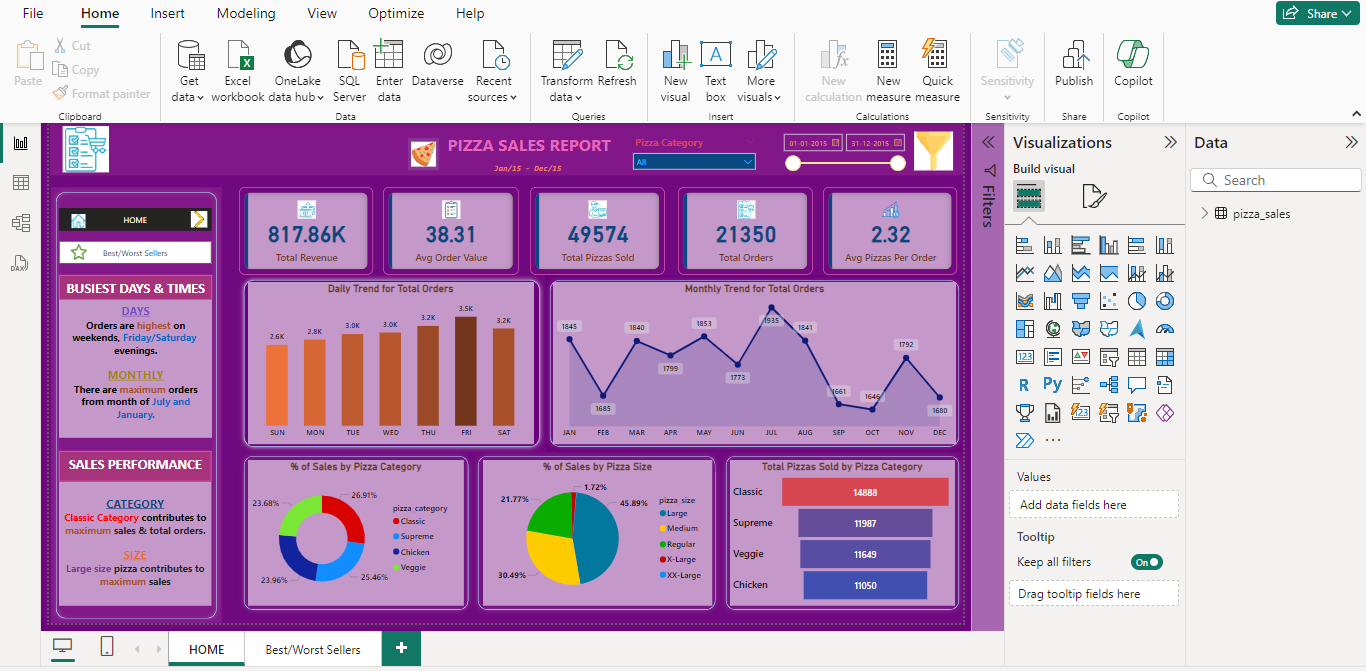

This screenshot's page, from the dashboard's own definition file:
{"tool":"powerbi","page":{"name":"HOME","canvas":[1500,820],"ordinal":0},"visuals":[{"type":"shape","box":[1.4,0,1498.6,85.7],"z":0},{"type":"cardVisual","fields":{"Data":["pizza_sales.Total Revenue"]},"box":[311.4,104.3,220,144.3],"z":1000},{"type":"cardVisual","fields":{"Data":["pizza_sales.Avg Order Value"]},"box":[548.6,104.3,222.9,144.3],"z":2000},{"type":"cardVisual","fields":{"Data":["pizza_sales.Total Pizzas Sold"]},"box":[788.6,104.3,221.4,144.3],"z":3000},{"type":"cardVisual","fields":{"Data":["pizza_sales.Total Orders"]},"box":[1031.4,104.3,221.4,144.3],"z":4000},{"type":"cardVisual","fields":{"Data":["pizza_sales.Avg Pizzas Per Order"]},"box":[1268.6,104.3,220,144.3],"z":5000},{"type":"textbox","box":[640,11.4,295.7,47.1],"z":6000},{"type":"textbox","box":[708.6,58.6,152.9,28.6],"z":7000},{"type":"image","box":[588.6,24.3,51.4,52.9],"z":8000},{"type":"shape","box":[311.4,248.6,501.4,290],"z":9000},{"type":"columnChart","title":"Daily Trend for Total Orders","fields":{"Category":["pizza_sales.Order Day"],"Y":["pizza_sales.Total Orders"]},"box":[327.1,261.4,468.6,265.7],"z":10000},{"type":"shape","box":[812.9,248.6,687.1,290],"z":11000},{"type":"areaChart","title":"Monthly Trend for Total Orders","fields":{"Y":["pizza_sales.Total Orders"],"Category":["pizza_sales.Order Month"]},"box":[827.1,261.4,661.4,265.7],"z":12000},{"type":"shape","box":[311.4,538.6,384.3,268.6],"z":13000},{"type":"shape","box":[695.7,538.6,405.7,268.6],"z":14000},{"type":"donutChart","title":"% of Sales by Pizza Category","fields":{"Category":["pizza_sales.pizza_category"],"Y":["pizza_sales.Total Revenue"]},"box":[327.1,552.9,354.3,238.6],"z":15000},{"type":"shape","box":[1101.4,538.6,398.6,268.6],"z":16000},{"type":"pieChart","title":"% of Sales by Pizza Size","fields":{"Category":["pizza_sales.pizza_size"],"Y":["pizza_sales.Total Revenue"]},"box":[711.4,552.9,375.7,238.6],"z":17000},{"type":"funnel","title":"Total Pizzas Sold by Pizza Category","fields":{"Category":["pizza_sales.pizza_category"],"Y":["pizza_sales.Total Pizzas Sold"]},"box":[1117.1,552.9,368.6,238.6],"z":18000},{"type":"shape","box":[2.9,104.3,280,715.7],"z":19000},{"type":"textbox","box":[15.7,248.6,251.4,41.4],"z":20000},{"type":"textbox","box":[17.1,538.6,250,50],"z":21000},{"type":"textbox","box":[15.7,290,251.4,225.7],"z":22000},{"type":"textbox","box":[17.1,588.6,250,202.9],"z":23000},{"type":"slicer","fields":{"Values":["pizza_sales.pizza_category"]},"box":[948.6,15.7,221.4,61.4],"z":24000},{"type":"slicer","fields":{"Values":["pizza_sales.order_date"]},"box":[1192.9,0,221.4,92.9],"z":25000},{"type":"pageNavigator","box":[17.1,140,250,37.1],"z":26000},{"type":"pageNavigator","box":[17.1,194.3,250,37.1],"z":27000},{"type":"image","box":[224.3,140,42.9,37.1],"z":28000},{"type":"image","box":[28.6,144.3,41.4,32.9],"z":29000},{"type":"image","box":[28.6,194.3,41.4,35.7],"z":30000},{"type":"image","box":[17.1,0,88.6,85.7],"z":31000},{"type":"image","box":[1414.3,4.3,74.3,81.4],"z":32000}]}

Visuals, with their boxes on the page's 1500x820 design canvas (x1, y1, x2, y2). These are canvas units, not pixel positions in the 1366x671 screenshot, which may show the page scaled, cropped or inside an application window:
shape: select_region(1, 0, 1500, 86)
cardVisual - pizza_sales.Total Revenue: select_region(311, 104, 531, 249)
cardVisual - pizza_sales.Avg Order Value: select_region(549, 104, 772, 249)
cardVisual - pizza_sales.Total Pizzas Sold: select_region(789, 104, 1010, 249)
cardVisual - pizza_sales.Total Orders: select_region(1031, 104, 1253, 249)
cardVisual - pizza_sales.Avg Pizzas Per Order: select_region(1269, 104, 1489, 249)
textbox: select_region(640, 11, 936, 58)
textbox: select_region(709, 59, 862, 87)
image: select_region(589, 24, 640, 77)
shape: select_region(311, 249, 813, 539)
"Daily Trend for Total Orders" columnChart: select_region(327, 261, 796, 527)
shape: select_region(813, 249, 1500, 539)
"Monthly Trend for Total Orders" areaChart: select_region(827, 261, 1488, 527)
shape: select_region(311, 539, 696, 807)
shape: select_region(696, 539, 1101, 807)
"% of Sales by Pizza Category" donutChart: select_region(327, 553, 681, 792)
shape: select_region(1101, 539, 1500, 807)
"% of Sales by Pizza Size" pieChart: select_region(711, 553, 1087, 792)
"Total Pizzas Sold by Pizza Category" funnel: select_region(1117, 553, 1486, 792)
shape: select_region(3, 104, 283, 820)
textbox: select_region(16, 249, 267, 290)
textbox: select_region(17, 539, 267, 589)
textbox: select_region(16, 290, 267, 516)
textbox: select_region(17, 589, 267, 792)
slicer - pizza_sales.pizza_category: select_region(949, 16, 1170, 77)
slicer - pizza_sales.order_date: select_region(1193, 0, 1414, 93)
pageNavigator: select_region(17, 140, 267, 177)
pageNavigator: select_region(17, 194, 267, 231)
image: select_region(224, 140, 267, 177)
image: select_region(29, 144, 70, 177)
image: select_region(29, 194, 70, 230)
image: select_region(17, 0, 106, 86)
image: select_region(1414, 4, 1489, 86)
